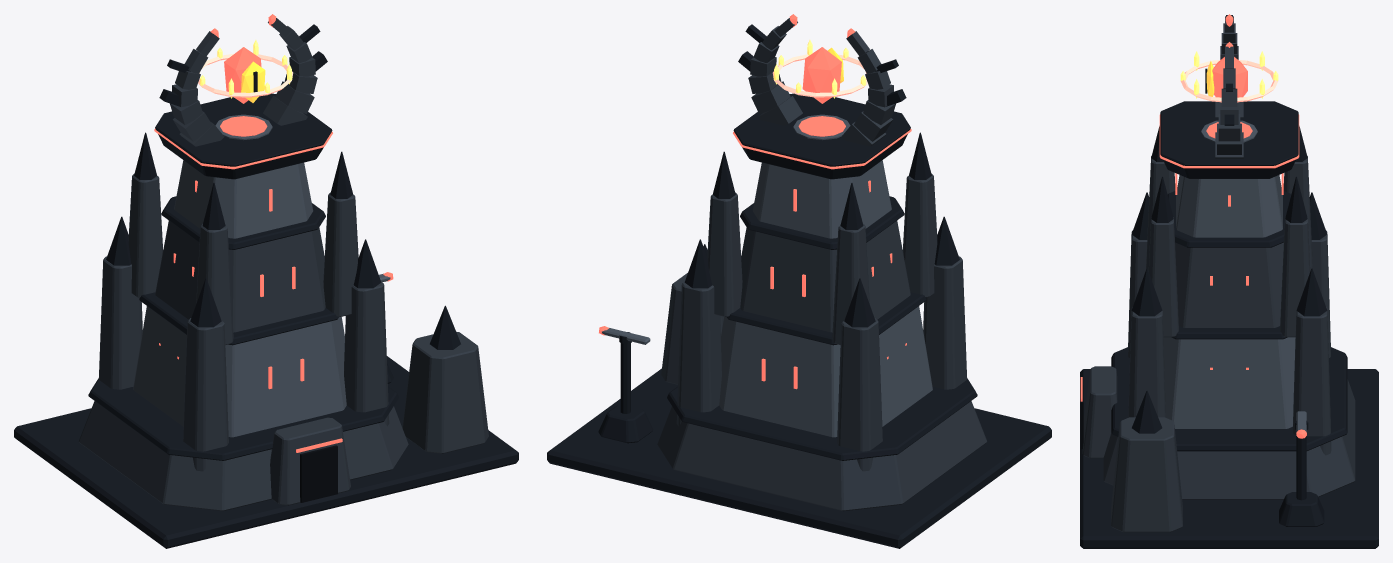
3 renders of one model, left to right at view 1: azimuth 30°, elevation 25°; view 2: azimuth 150°, elevation 25°; view 3: azimuth 270°, elevation 25°, orthographic. The views are drawn at different scales.
Parts seen in each view (by area): view 1: Dark tower, Eye, Fire ring; view 2: Dark tower, Eye, Fire ring; view 3: Dark tower, Fire ring, Eye.
Boxes of the visible parts, box(x1,y1,x2,y2) form: Dark tower: box(14, 14, 518, 548); Eye: box(224, 47, 265, 103); Fire ring: box(198, 40, 293, 98); Dark tower: box(547, 14, 1051, 548); Eye: box(802, 47, 843, 103); Fire ring: box(772, 40, 867, 98); Dark tower: box(1080, 14, 1378, 548); Fire ring: box(1180, 51, 1278, 102); Eye: box(1205, 57, 1247, 102).
Bounding box in the file's own units: 7.8 × 9.14 × 5.8.
